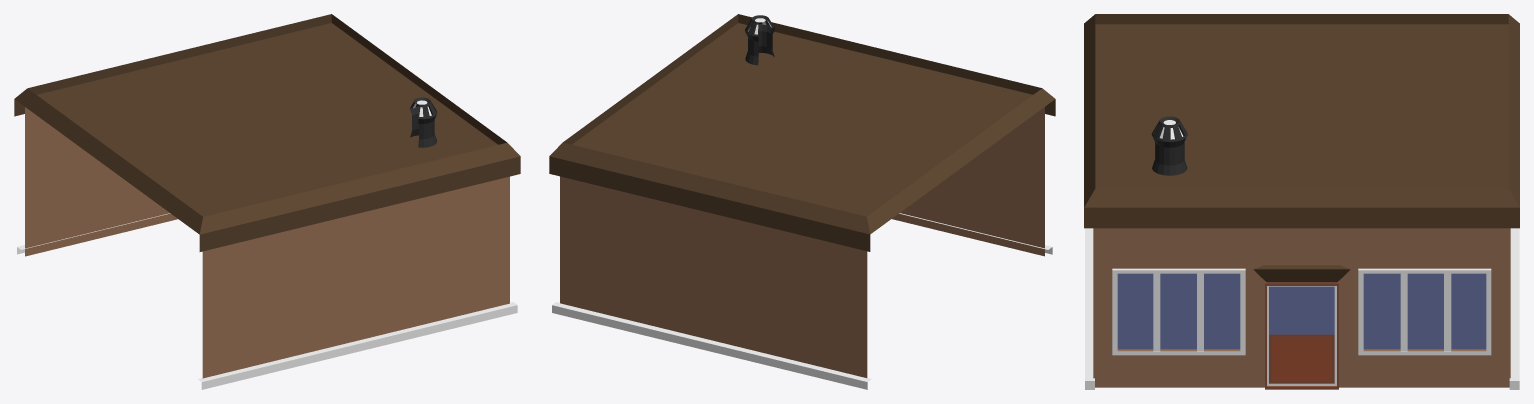
The model's file is House_17.fbx.
The picture shows the model from 3 angles, left to right: view 1: azimuth 30°, elevation 25°; view 2: azimuth 150°, elevation 25°; view 3: azimuth 270°, elevation 25°; orthographic projection. The views are drawn at different scales.
Visible parts, largest first — view 1: Cube.001, Cube, Cube.005, Cylinder; view 2: Cube.001, Cube, Cube.005, Cylinder; view 3: Cube.001, Cube, Cube.004, Cube.002, Cube.005, Plane.003, Cylinder, Cube.003.
Part boxes in pixels (x1=…): Cube.001: x1=14, y1=14, x2=520, y2=251; Cube: x1=25, y1=107, x2=509, y2=378; Cube.005: x1=17, y1=213, x2=517, y2=389; Cylinder: x1=410, y1=97, x2=437, y2=147; Cube.001: x1=549, y1=14, x2=1055, y2=251; Cube: x1=560, y1=107, x2=1044, y2=377; Cube.005: x1=552, y1=213, x2=1052, y2=389; Cylinder: x1=745, y1=15, x2=775, y2=65; Cube.001: x1=1084, y1=14, x2=1519, y2=228; Cube: x1=1093, y1=228, x2=1510, y2=387; Cube.004: x1=1265, y1=281, x2=1338, y2=389; Cube.002: x1=1112, y1=268, x2=1491, y2=355; Cube.005: x1=1085, y1=228, x2=1519, y2=389; Plane.003: x1=1153, y1=273, x2=1451, y2=351; Cylinder: x1=1151, y1=116, x2=1187, y2=175; Cube.003: x1=1253, y1=265, x2=1350, y2=282.
Bounding box in the file's own units: 418 × 249 × 418.
